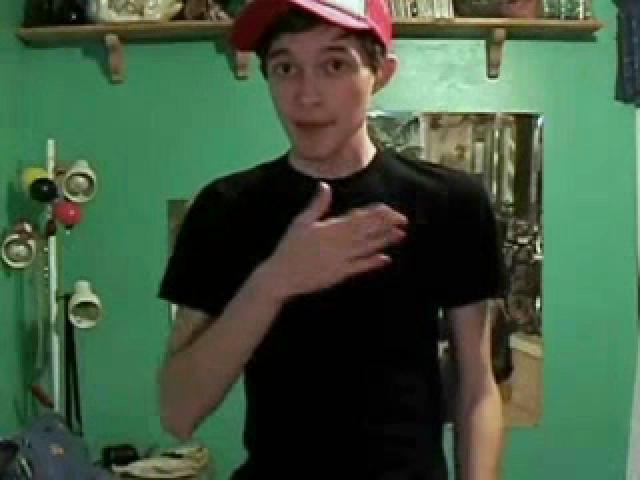F: (157, 5, 502, 476)
